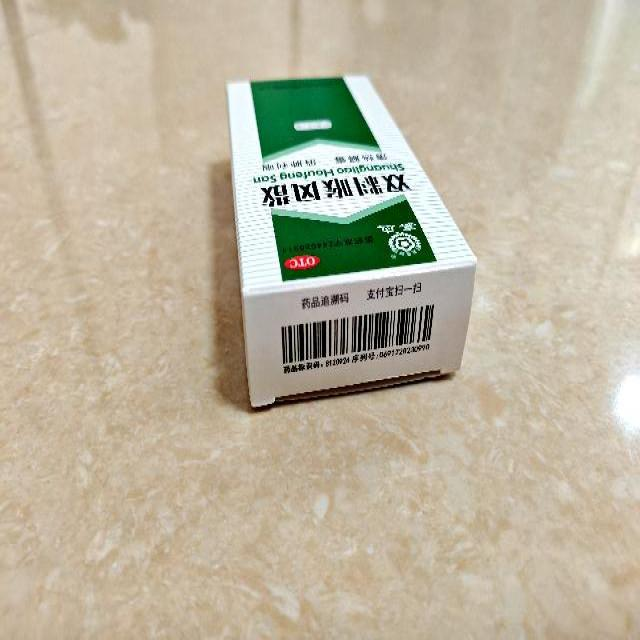box: (225, 73, 478, 412)
